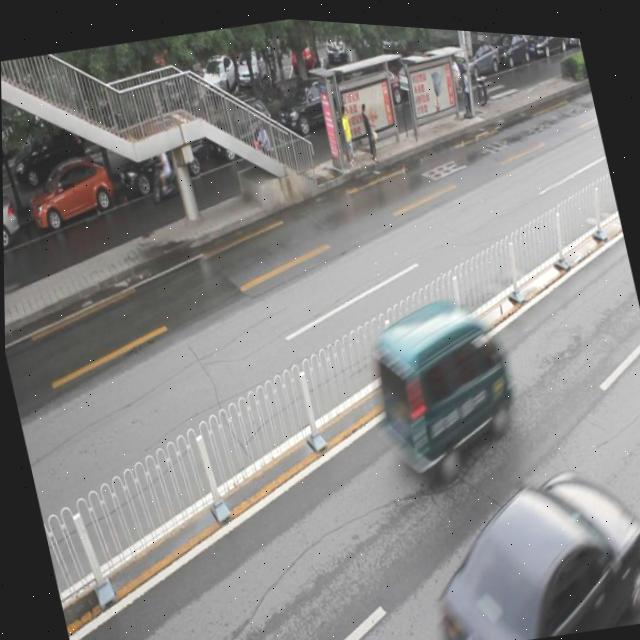car: (407, 440, 640, 640), (19, 146, 118, 234), (112, 121, 210, 196), (195, 93, 282, 171), (272, 68, 355, 144), (2, 184, 25, 255)
truck: (357, 280, 525, 489)
